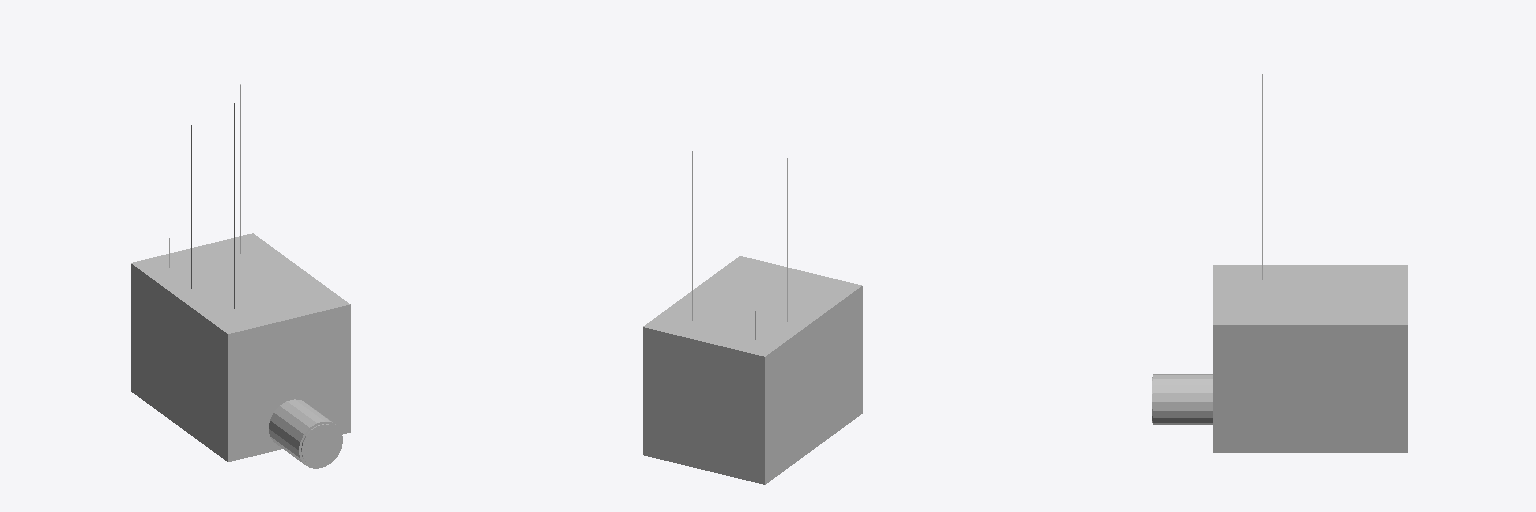
Rendered from Piece complete (texture).obj.
The picture shows the model from 3 angles: view 1: azimuth 30°, elevation 25°; view 2: azimuth 150°, elevation 25°; view 3: azimuth 270°, elevation 25°; orthographic projection.
Visible parts, largest first — view 1: Piece, tunel grand, tunel petit, suport; view 2: Piece; view 3: Piece, tunel grand.
Boxes of the visible parts, box(x1,y1,x2,y2) form: Piece: box(131, 233, 350, 461); tunel grand: box(269, 399, 342, 468); tunel petit: box(301, 424, 340, 466); suport: box(169, 84, 240, 308); Piece: box(643, 256, 862, 484); Piece: box(1213, 265, 1407, 452); tunel grand: box(1153, 374, 1212, 424).
Bounding box in the file's own units: 157 × 411 × 286.